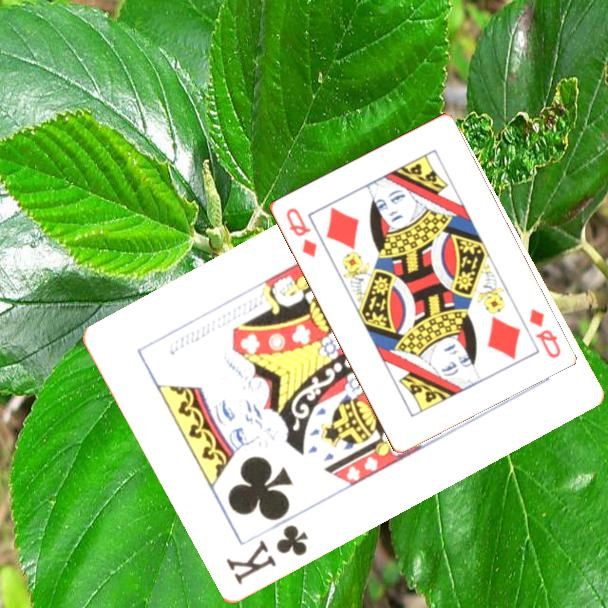c13: (222, 521, 311, 589)
d12: (282, 204, 320, 260), (525, 305, 563, 361)
